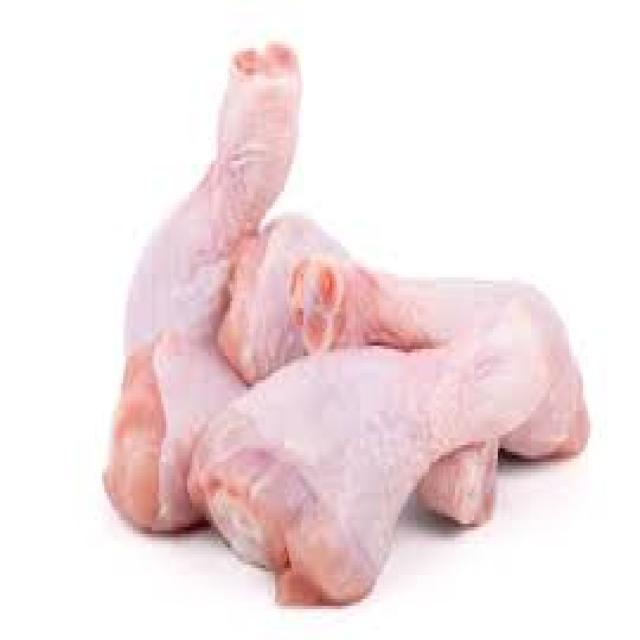leg: (203, 301, 556, 609), (118, 22, 272, 348), (94, 324, 247, 540), (224, 202, 360, 394)
